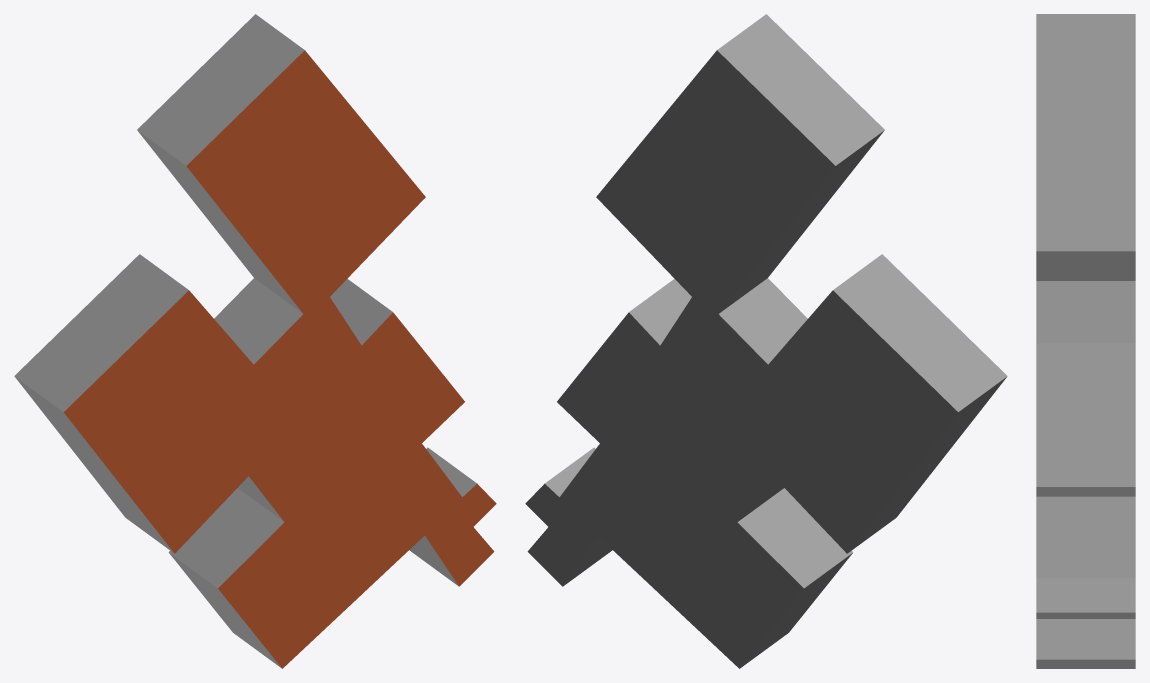
File: construction_4479_assumed_A_Casa_h6m.obj
The picture shows the model from 3 angles, left to right: view 1: azimuth 30°, elevation 25°; view 2: azimuth 150°, elevation 25°; view 3: azimuth 270°, elevation 25°; orthographic projection.
Parts seen in each view (by area): view 1: construction_4479_assumed_A_Casa; view 2: construction_4479_assumed_A_Casa; view 3: construction_4479_assumed_A_Casa.
Part boxes in pixels (x1,y1,x2,y2): construction_4479_assumed_A_Casa: (14, 14, 496, 668); construction_4479_assumed_A_Casa: (525, 14, 1007, 668); construction_4479_assumed_A_Casa: (1036, 14, 1135, 668).
Size of the model in its own units: 30.36 by 41.08 by 6.
